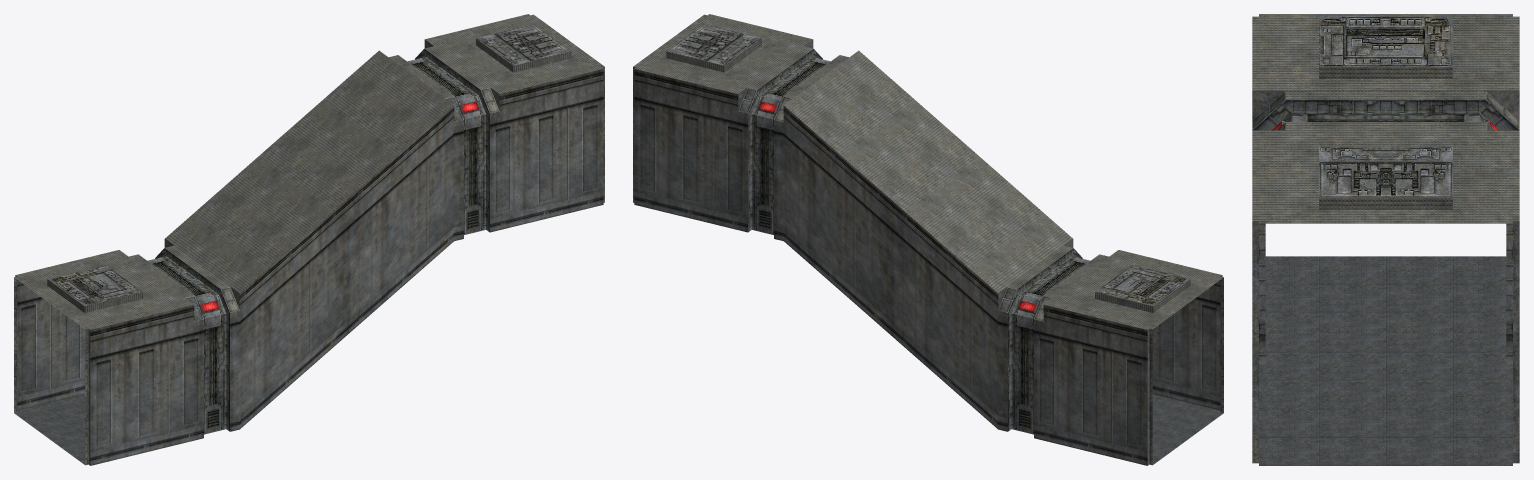
File: poi_all_impl_bunker_abandoned_s01_r15_ramp6_mesh.fbx
3 renders of one model, left to right at view 1: azimuth 30°, elevation 25°; view 2: azimuth 150°, elevation 25°; view 3: azimuth 270°, elevation 25°, orthographic. The views are drawn at different scales.
Visible parts, largest first — view 1: mesh_node; view 2: mesh_node; view 3: mesh_node.
Boxes of the visible parts, x1,y1,x2,y2 form: mesh_node: (14,14,604,465); mesh_node: (633,14,1223,465); mesh_node: (1252,14,1519,465).
Bounding box in the file's own units: 16 × 8.2 × 4.
